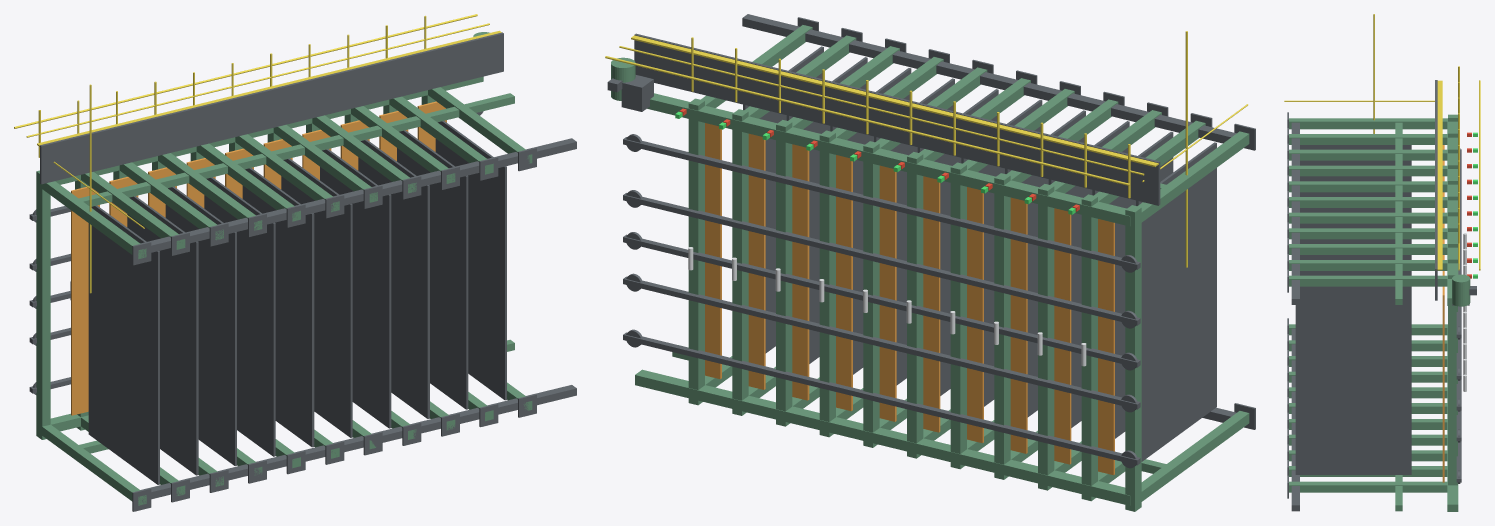
The model's file is new_bin_sorter.glb.
3 renders of one model, left to right at view 1: azimuth 30°, elevation 25°; view 2: azimuth 150°, elevation 25°; view 3: azimuth 270°, elevation 25°, orthographic. The views are drawn at different scales.
Visible parts, largest first — view 1: CatwalkFloorGrate, DividerWallLeft_0, DividerWallLeft_4, DividerWallLeft_6, DividerWallLeft_5, DividerWallLeft_8, DividerWallLeft_3, DividerWallLeft_7, DividerWallLeft_9, DividerWallLeft_2, DividerWallLeft_1, MidTie_Z2.8 (+20 smaller); view 2: CatwalkFloorGrate, DividerWallLeft_0, TopHeader_Z-2.8, TopHeader_Z2.8, LowerHauloutRail_Z2.8, TrackChannel_1, TrackChannel_4, TrackChannel_0, TrackChannel_3, TrackChannel_2, CrossBeam_2, CrossBeam_5 (+44 smaller); view 3: DividerWallLeft_9, Col_10_Z-2.8, Col_10_Z2.8, Col_2_Z2.8, Col_6_Z2.8, CrossBeam_10, Col_4_Z2.8, Col_7_Z2.8, Col_3_Z2.8, Col_0_Z2.8, Col_1_Z2.8, Col_5_Z2.8 (+33 smaller).
Part boxes in pixels (left/top/right/bottom): CatwalkFloorGrate: left=40, top=32, right=503, bottom=184; DividerWallLeft_0: left=88, top=205, right=159, bottom=484; DividerWallLeft_4: left=242, top=168, right=314, bottom=447; DividerWallLeft_6: left=320, top=149, right=391, bottom=428; DividerWallLeft_5: left=281, top=158, right=352, bottom=437; DividerWallLeft_8: left=397, top=130, right=468, bottom=409; DividerWallLeft_3: left=204, top=177, right=275, bottom=456; DividerWallLeft_7: left=358, top=139, right=429, bottom=418; DividerWallLeft_9: left=435, top=121, right=506, bottom=400; DividerWallLeft_2: left=165, top=186, right=236, bottom=465; DividerWallLeft_1: left=127, top=196, right=198, bottom=475; MidTie_Z2.8: left=79, top=93, right=514, bottom=206; CatwalkFloorGrate: left=634, top=33, right=1160, bottom=205; DividerWallLeft_0: left=1136, top=142, right=1216, bottom=461; TopHeader_Z-2.8: left=635, top=369, right=1130, bottom=505; TopHeader_Z2.8: left=647, top=93, right=1130, bottom=226; LowerHauloutRail_Z2.8: left=742, top=14, right=1236, bottom=143; TrackChannel_1: left=623, top=276, right=1140, bottom=409; TrackChannel_4: left=623, top=137, right=1140, bottom=269; TrackChannel_0: left=623, top=332, right=1140, bottom=465; TrackChannel_3: left=623, top=193, right=1140, bottom=325; TrackChannel_2: left=623, top=234, right=1140, bottom=367; CrossBeam_2: left=1038, top=184, right=1054, bottom=490; CrossBeam_5: left=907, top=152, right=923, bottom=458; DividerWallLeft_9: left=1295, top=286, right=1411, bottom=474; Col_10_Z-2.8: left=1289, top=481, right=1447, bottom=492; Col_10_Z2.8: left=1289, top=275, right=1447, bottom=286; Col_2_Z2.8: left=1289, top=149, right=1447, bottom=160; Col_6_Z2.8: left=1289, top=212, right=1447, bottom=223; CrossBeam_10: left=1448, top=272, right=1457, bottom=485; Col_4_Z2.8: left=1289, top=181, right=1447, bottom=192; Col_7_Z2.8: left=1289, top=228, right=1447, bottom=239; Col_3_Z2.8: left=1289, top=165, right=1447, bottom=176; Col_0_Z2.8: left=1289, top=118, right=1447, bottom=129; Col_1_Z2.8: left=1289, top=134, right=1447, bottom=144; Col_5_Z2.8: left=1289, top=197, right=1447, bottom=207.
Bounding box in the file's own units: 10.92 × 8.63 × 4.75.
